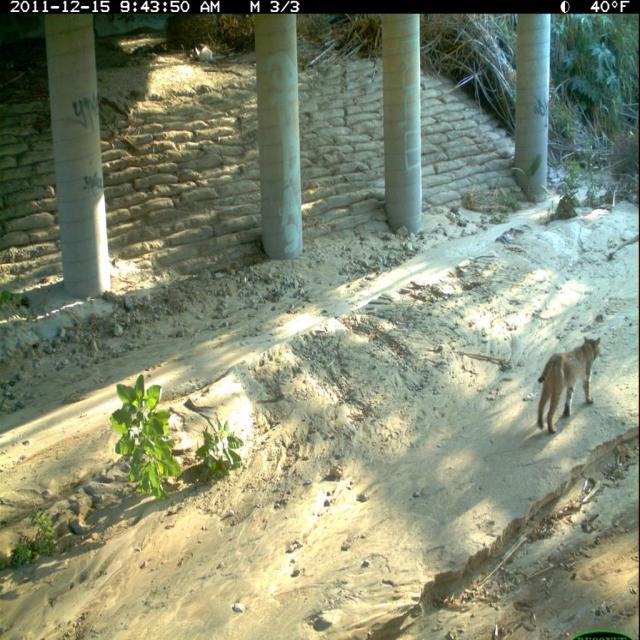bobcat: (533, 331, 606, 442)
